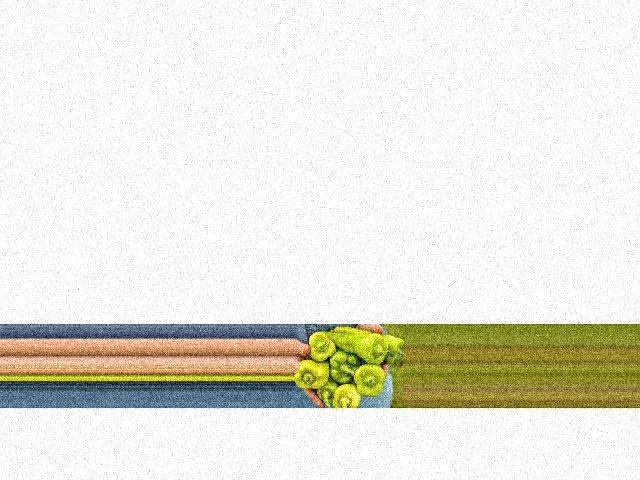bell_pepper: (295, 361, 331, 392)
